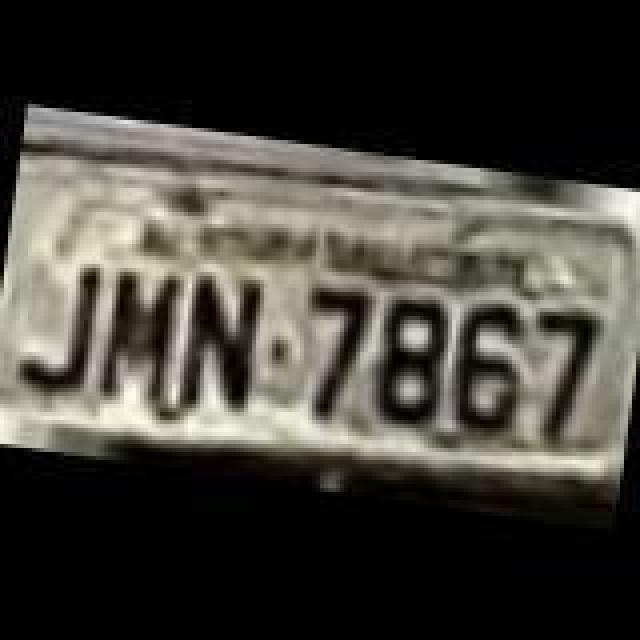6: (442, 296, 534, 440)
7: (514, 302, 606, 450), (290, 278, 382, 426)
8: (370, 296, 462, 440)
J: (12, 258, 108, 398)
M: (90, 268, 190, 412)
N: (172, 264, 276, 424)
